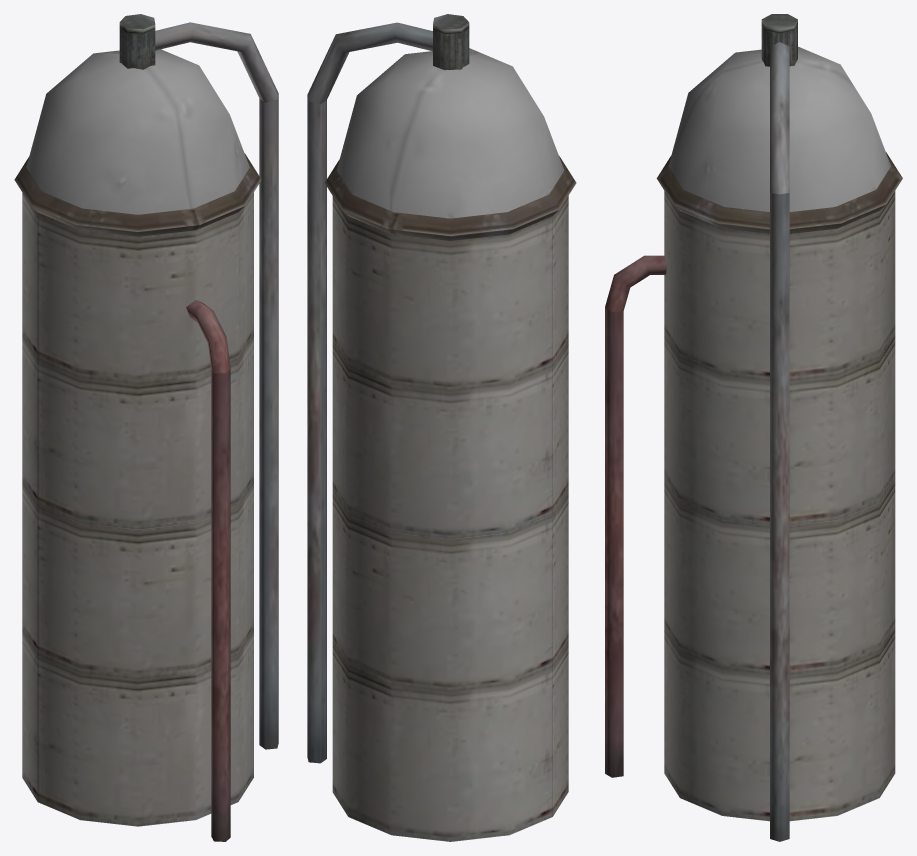
The model's file is ind-silo.lod0.glb.
The picture shows the model from 3 angles, left to right: view 1: azimuth 30°, elevation 25°; view 2: azimuth 150°, elevation 25°; view 3: azimuth 270°, elevation 25°; orthographic projection. The views are drawn at different scales.
Visible parts, largest first — view 1: Industrial_SiloTank_1_Industrial_Walls_FLR_1_0; view 2: Industrial_SiloTank_1_Industrial_Walls_FLR_1_0; view 3: Industrial_SiloTank_1_Industrial_Walls_FLR_1_0.
Part boxes in pixels (x1=…): Industrial_SiloTank_1_Industrial_Walls_FLR_1_0: x1=14, y1=14, x2=278, y2=841; Industrial_SiloTank_1_Industrial_Walls_FLR_1_0: x1=307, y1=14, x2=576, y2=841; Industrial_SiloTank_1_Industrial_Walls_FLR_1_0: x1=605, y1=14, x2=902, y2=841.
Bounding box in the file's own units: 3.05 × 8.9 × 3.19.
1 material, 1 textured.
